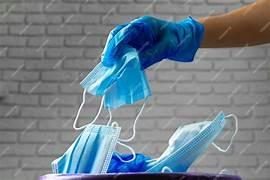Glove: (101, 16, 203, 68), (107, 152, 150, 172)
Mask: (108, 112, 237, 172), (52, 91, 143, 173), (147, 112, 237, 171), (80, 45, 150, 108), (52, 124, 120, 173), (104, 48, 150, 108), (156, 121, 208, 160)
